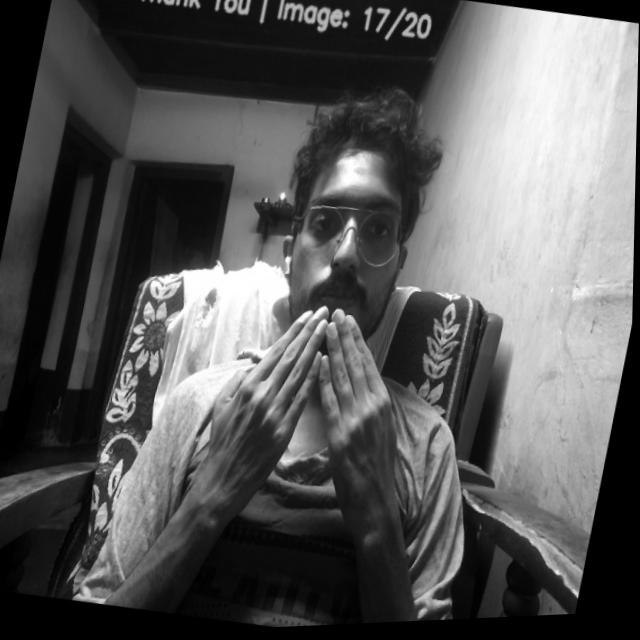Thank You: (197, 287, 438, 533)
